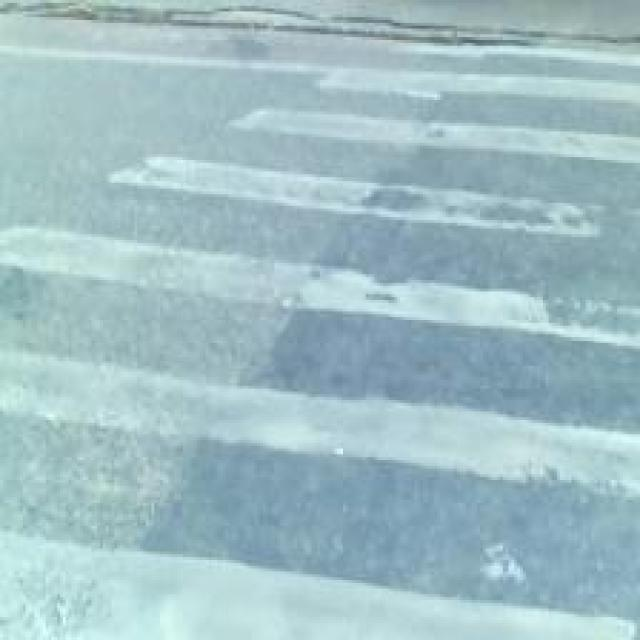walk-crossing: (87, 54, 617, 639)
